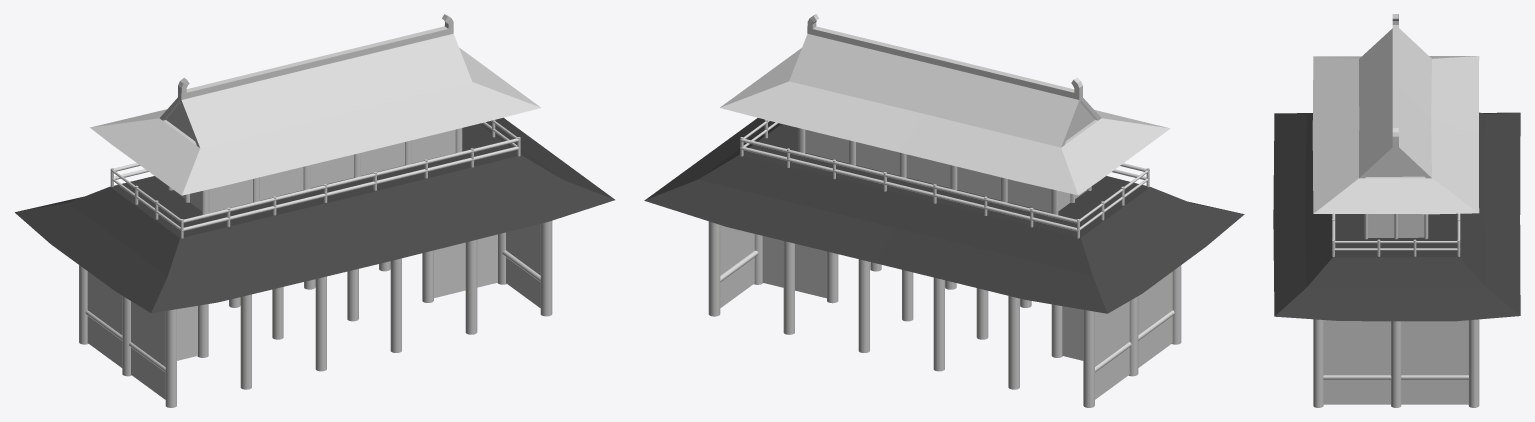
Rendered from rashomon.fbx.
3 views of the same model, side by side, from view 1: azimuth 30°, elevation 25°; view 2: azimuth 150°, elevation 25°; view 3: azimuth 270°, elevation 25° (orthographic). The views are drawn at different scales.
Visible parts, largest first — view 1: 円錐.001, 円錐, 円柱.001, 平面.002, 円柱.003, 円柱, 円柱.002, 円柱.013; view 2: 円錐.001, 円錐, 円柱.001, 平面.001, 円柱.003, 円柱, 円柱.002, 円柱.013; view 3: 円錐.001, 円錐, 円柱.001, 円柱.002, 円柱.013, 円柱.004, 円柱.005.
Boxes of the visible parts, x1=… form: 円錐.001: x1=15, y1=117, x2=614, y2=313; 円錐: x1=90, y1=14, x2=540, y2=195; 円柱.001: x1=79, y1=221, x2=552, y2=407; 平面.002: x1=209, y1=129, x2=455, y2=212; 円柱.003: x1=114, y1=146, x2=520, y2=231; 円柱: x1=114, y1=138, x2=520, y2=223; 円柱.002: x1=168, y1=128, x2=462, y2=214; 円柱.013: x1=85, y1=250, x2=540, y2=372; 円錐.001: x1=644, y1=118, x2=1244, y2=313; 円錐: x1=720, y1=14, x2=1170, y2=195; 円柱.001: x1=708, y1=221, x2=1181, y2=407; 平面.001: x1=805, y1=129, x2=1051, y2=212; 円柱.003: x1=740, y1=146, x2=1149, y2=231; 円柱: x1=740, y1=138, x2=1149, y2=223; 円柱.002: x1=798, y1=128, x2=1091, y2=214; 円柱.013: x1=720, y1=250, x2=1174, y2=372; 円錐.001: x1=1273, y1=112, x2=1520, y2=321; 円錐: x1=1312, y1=14, x2=1479, y2=214; 円柱.001: x1=1313, y1=319, x2=1479, y2=407; 円柱.002: x1=1364, y1=214, x2=1428, y2=239; 円柱.013: x1=1323, y1=375, x2=1469, y2=379; 円柱.004: x1=1335, y1=248, x2=1457, y2=250; 円柱.005: x1=1334, y1=241, x2=1457, y2=243.
Size of the model in its own units: 3715 by 2151 by 1907.
Materials: 1 (1 with a texture image).
